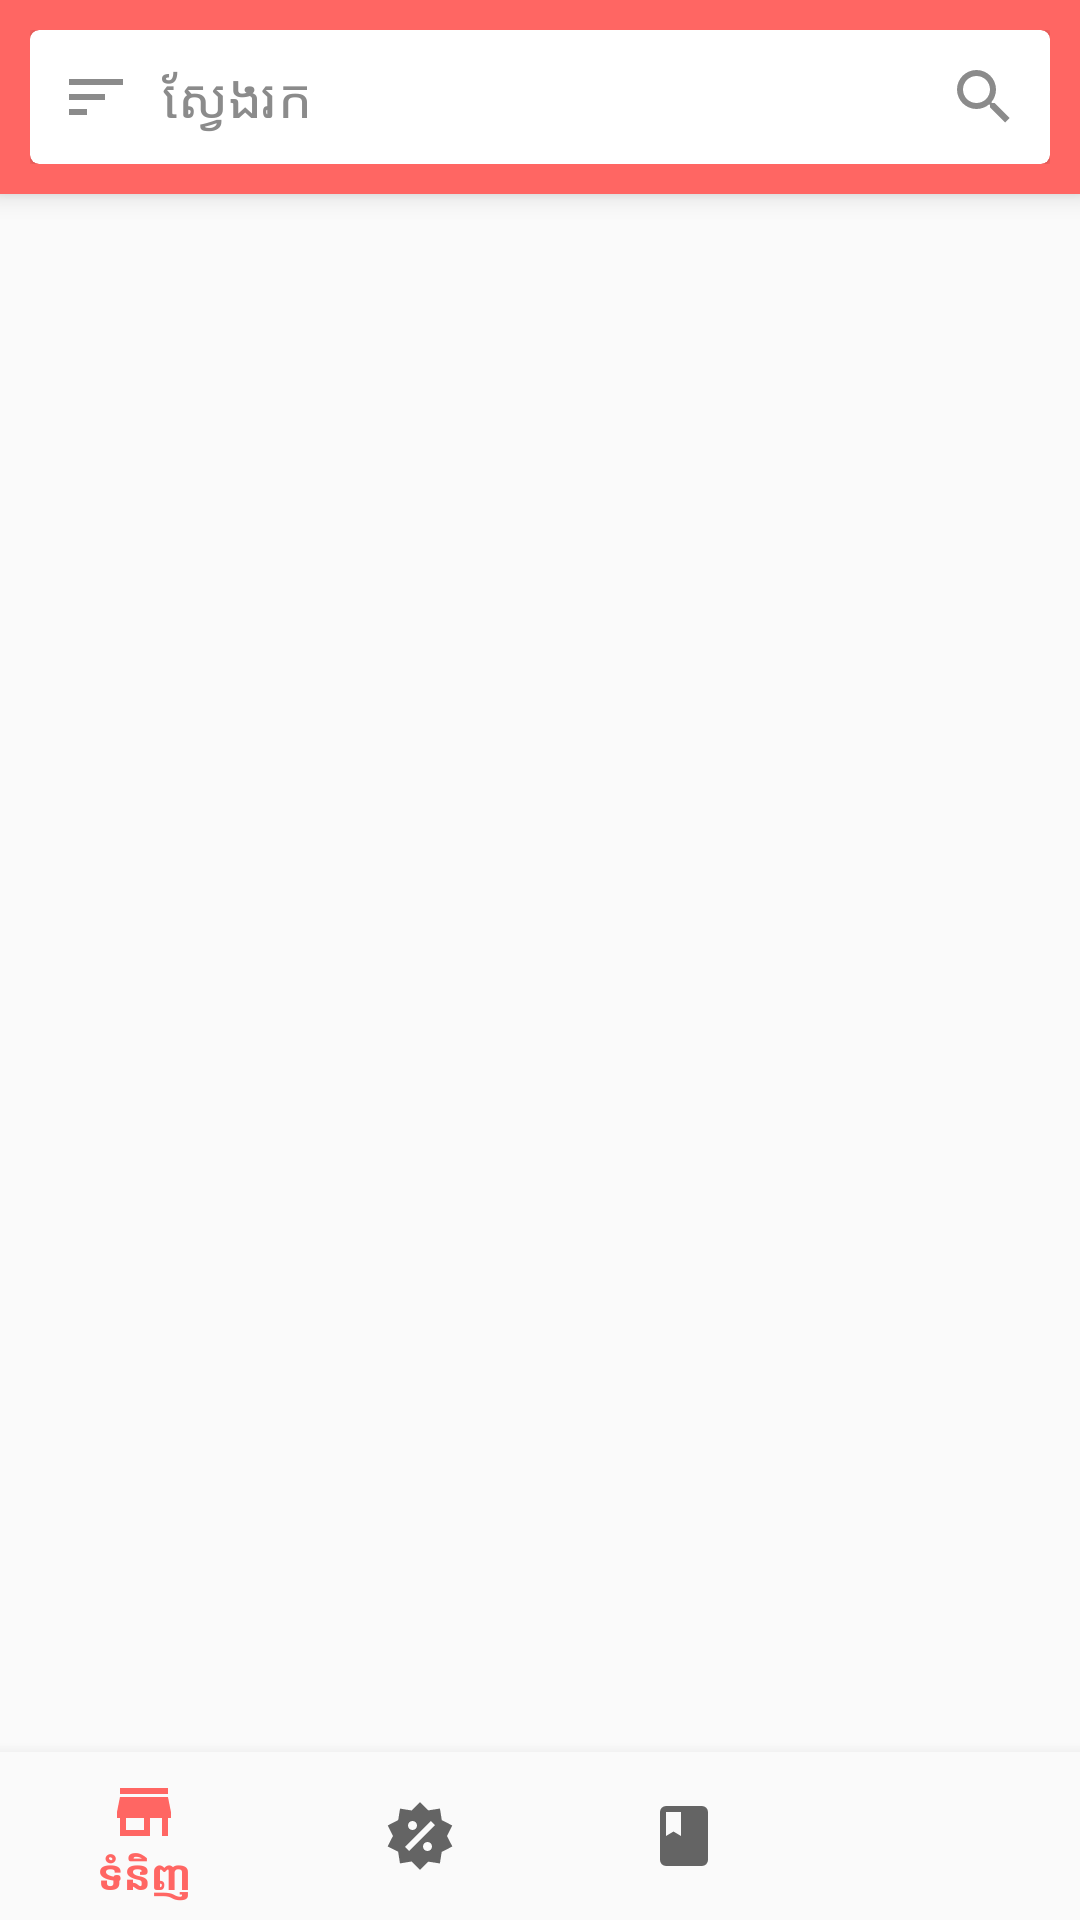

Screen size 1080px x 1920px. Icon name, then its center in pixels as (x=x, y=y):
magnify: (x=983, y=96)
sort variant: (x=96, y=97)
